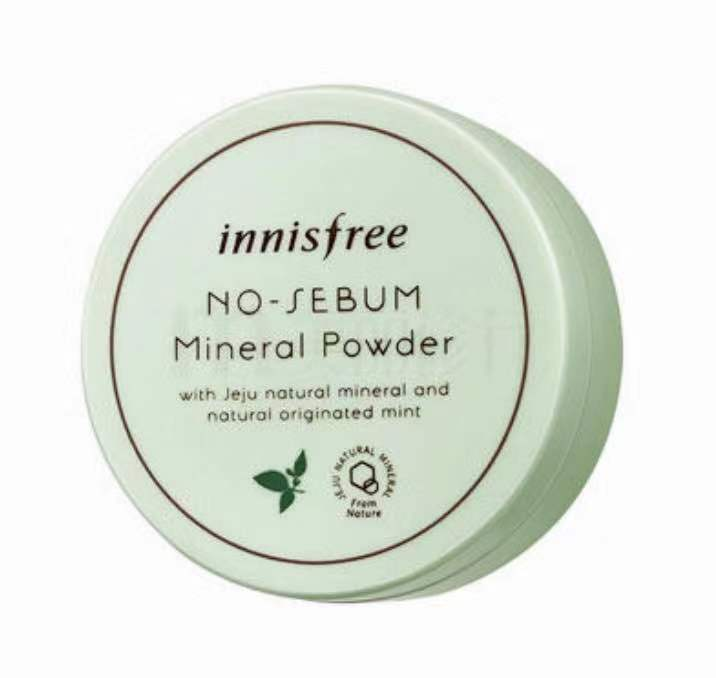cosmetic: (89, 93, 611, 594)
